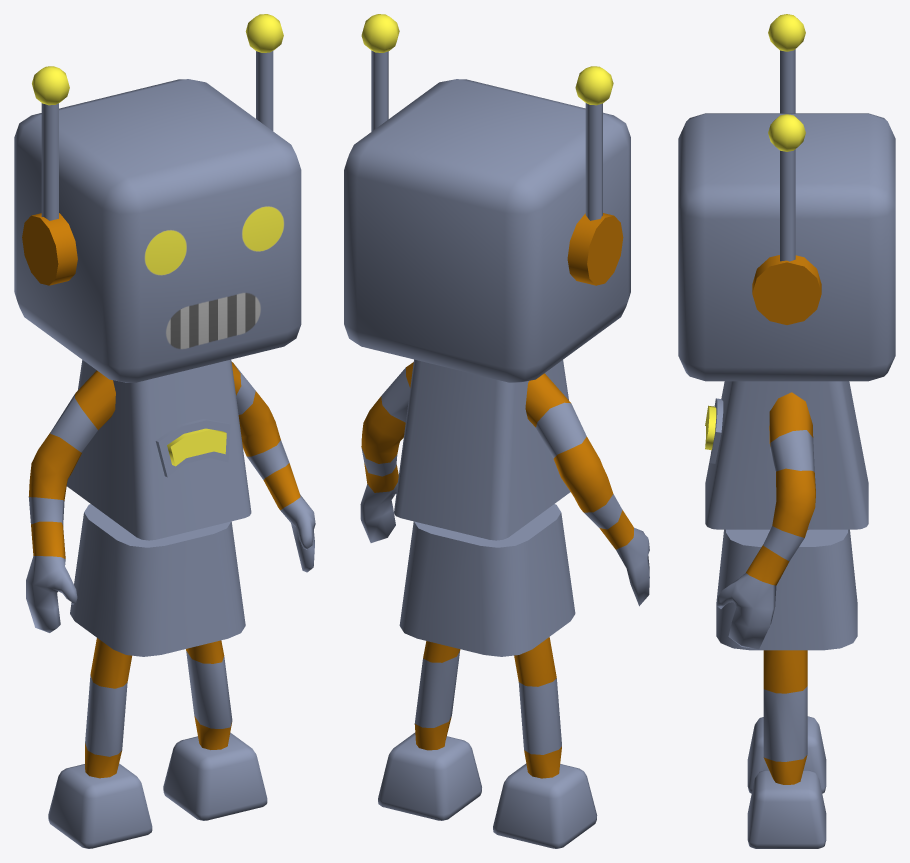
The model's file is robot_A_pose.fbx.
The picture shows the model from 3 angles, left to right: view 1: azimuth 30°, elevation 25°; view 2: azimuth 150°, elevation 25°; view 3: azimuth 270°, elevation 25°; orthographic projection. The views are drawn at different scales.
Parts seen in each view (by area): view 1: robot_A_pose; view 2: robot_A_pose; view 3: robot_A_pose.
Part boxes in pixels (x1,y1,x2,y2): robot_A_pose: [14, 14, 315, 848]; robot_A_pose: [344, 14, 649, 848]; robot_A_pose: [678, 14, 895, 848].
Bounding box in the file's own units: 76.11 × 202 × 53.43.
